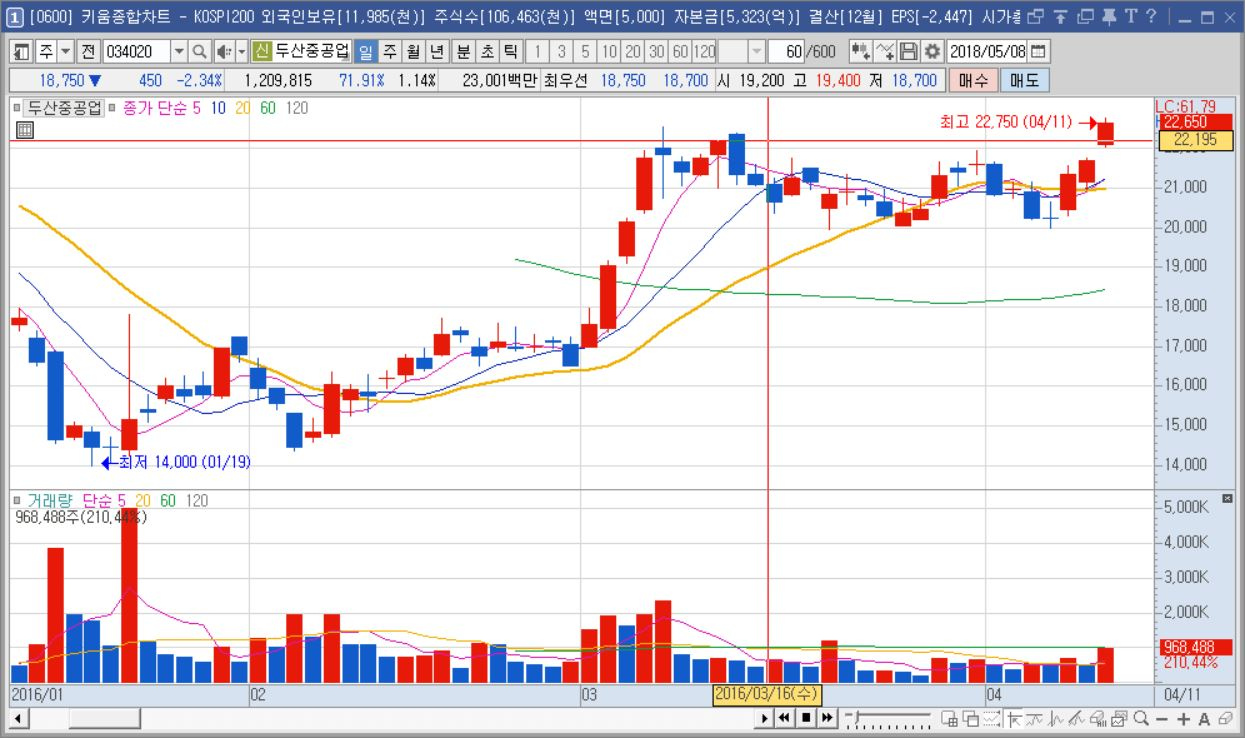up: (580, 113, 1118, 684)
